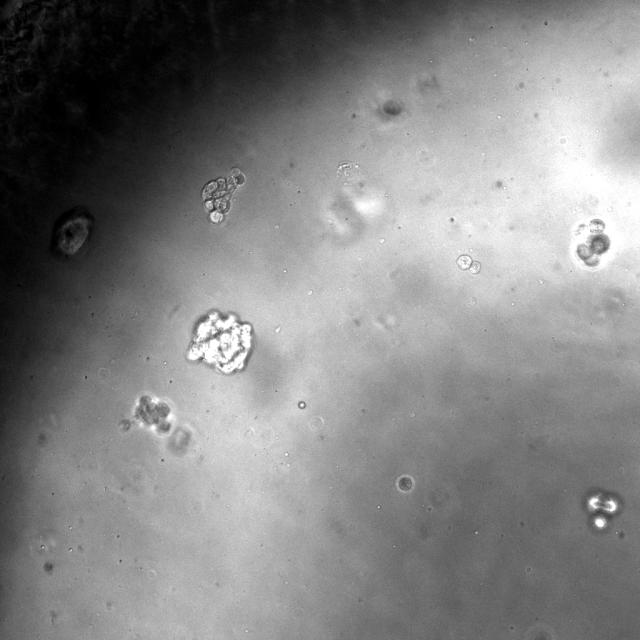organoid: (119, 395, 194, 455), (188, 310, 251, 373), (201, 167, 245, 224), (571, 215, 612, 269), (52, 206, 93, 256), (584, 487, 622, 531), (456, 254, 481, 274), (395, 474, 414, 493), (383, 99, 402, 116), (298, 401, 306, 409)
